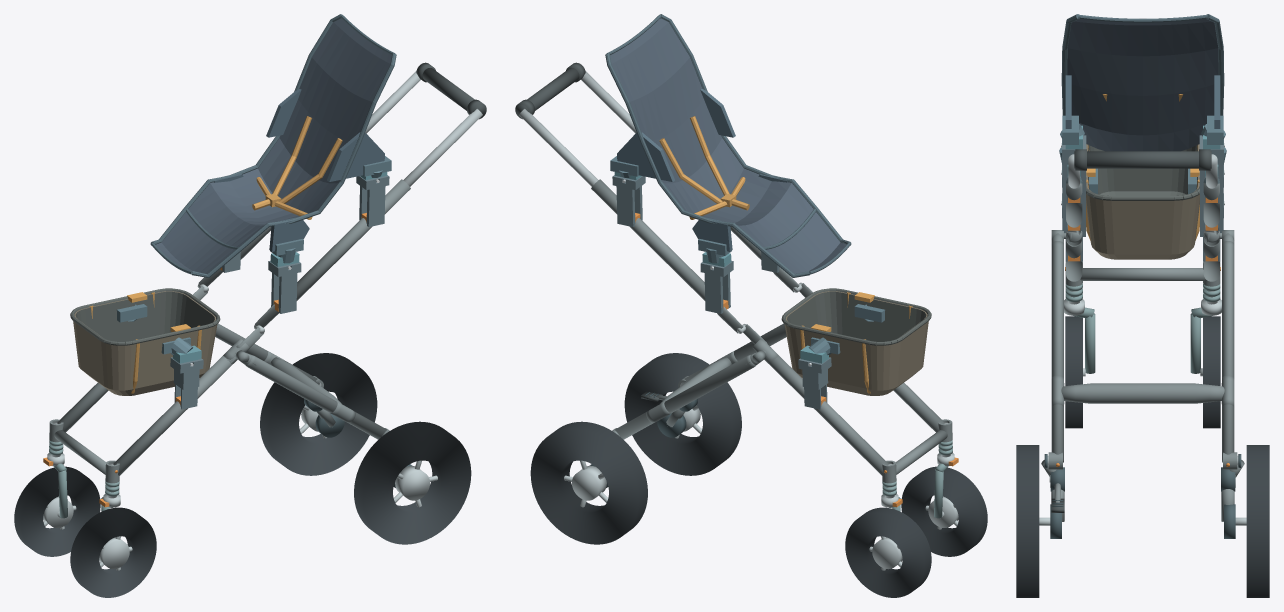
The model's file is D34_w380_state1_wheel_M.glb.
The picture shows the model from 3 angles, left to right: view 1: azimuth 30°, elevation 25°; view 2: azimuth 150°, elevation 25°; view 3: azimuth 270°, elevation 25°; orthographic projection. The views are drawn at different scales.
Parts seen in each view (by area): view 1: D34_Upper, D34_Lower, RL_tire.009, RR_tire.009, FL_tire.009, FR_tire.009, main_lower_-1, V46_rear_leg_-1.002, main_upper_-1, Universal_Cabin_Receiver_M_-1, Universal_Cabin_Receiver_H_-1, Universal_Cabin_Receiver_L_-1 (+11 smaller); view 2: D34_Upper, D34_Lower, RR_tire.009, RL_tire.009, FR_tire.009, FL_tire.009, main_lower_1, V46_rear_leg_1.002, main_upper_1, Universal_Cabin_Receiver_M_1, Universal_Cabin_Receiver_H_1, Universal_Cabin_Receiver_L_1 (+11 smaller); view 3: D34_Upper, D34_Lower, RL_tire.009, RR_tire.009, V46_rearbar.002, V46_rear_leg_1.002, V46_rear_leg_-1.002, round_handle.010, FL_tire.009, FR_tire.009, front_fixed_round_tube, D34_Upper_Mount_H (+11 smaller).
Boxes of the visible parts, left/top/right/bottom form: D34_Upper: left=150, top=14, right=396, bottom=277; D34_Lower: left=70, top=288, right=220, bottom=395; RL_tire.009: left=354, top=421, right=471, bottom=544; RR_tire.009: left=260, top=353, right=377, bottom=475; FL_tire.009: left=70, top=507, right=156, bottom=597; FR_tire.009: left=14, top=466, right=100, bottom=556; main_lower_-1: left=113, top=356, right=236, bottom=475; V46_rear_leg_-1.002: left=245, top=355, right=386, bottom=439; main_upper_-1: left=296, top=179, right=410, bottom=300; Universal_Cabin_Receiver_M_-1: left=268, top=260, right=301, bottom=313; Universal_Cabin_Receiver_H_-1: left=356, top=175, right=389, bottom=226; Universal_Cabin_Receiver_L_-1: left=170, top=357, right=203, bottom=409; D34_Upper: left=605, top=14, right=851, bottom=277; D34_Lower: left=781, top=288, right=931, bottom=395; RR_tire.009: left=530, top=421, right=647, bottom=544; RL_tire.009: left=624, top=353, right=741, bottom=475; FR_tire.009: left=845, top=507, right=931, bottom=597; FL_tire.009: left=901, top=466, right=987, bottom=556; main_lower_1: left=765, top=356, right=888, bottom=475; V46_rear_leg_1.002: left=615, top=355, right=756, bottom=439; main_upper_1: left=591, top=179, right=705, bottom=300; Universal_Cabin_Receiver_M_1: left=700, top=260, right=733, bottom=313; Universal_Cabin_Receiver_H_1: left=612, top=175, right=645, bottom=226; Universal_Cabin_Receiver_L_1: left=798, top=357, right=831, bottom=409; D34_Upper: left=1061, top=14, right=1224, bottom=151; D34_Lower: left=1086, top=144, right=1199, bottom=259; RL_tire.009: left=1016, top=445, right=1039, bottom=597; RR_tire.009: left=1246, top=445, right=1269, bottom=597; V46_rearbar.002: left=1061, top=383, right=1224, bottom=403; V46_rear_leg_1.002: left=1222, top=241, right=1234, bottom=462; V46_rear_leg_-1.002: left=1051, top=241, right=1063, bottom=462; round_handle.010: left=1074, top=151, right=1211, bottom=168; FL_tire.009: left=1065, top=316, right=1082, bottom=428; FR_tire.009: left=1203, top=316, right=1220, bottom=428; front_fixed_round_tube: left=1080, top=268, right=1205, bottom=280; D34_Upper_Mount_H: left=1060, top=115, right=1225, bottom=149.
Size of the model in its own units: 1.15 by 1.25 by 0.4971.
